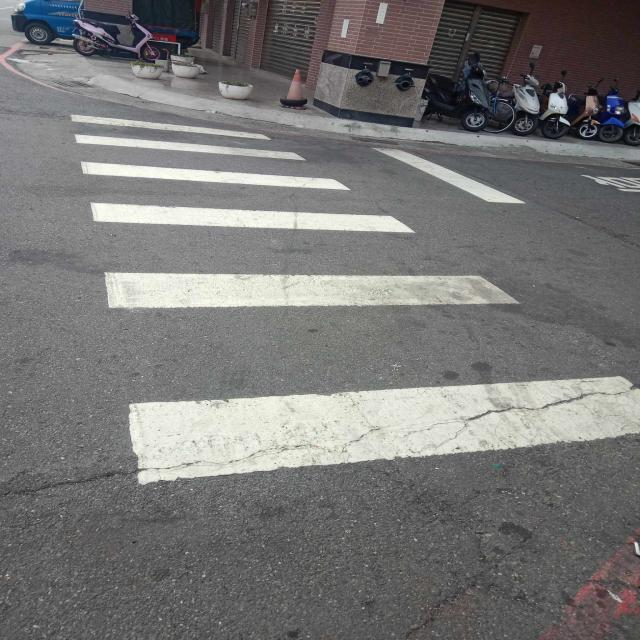zebra crossing: (68, 111, 640, 472)
